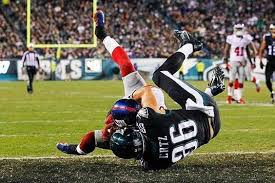fall: (52, 13, 226, 165)
